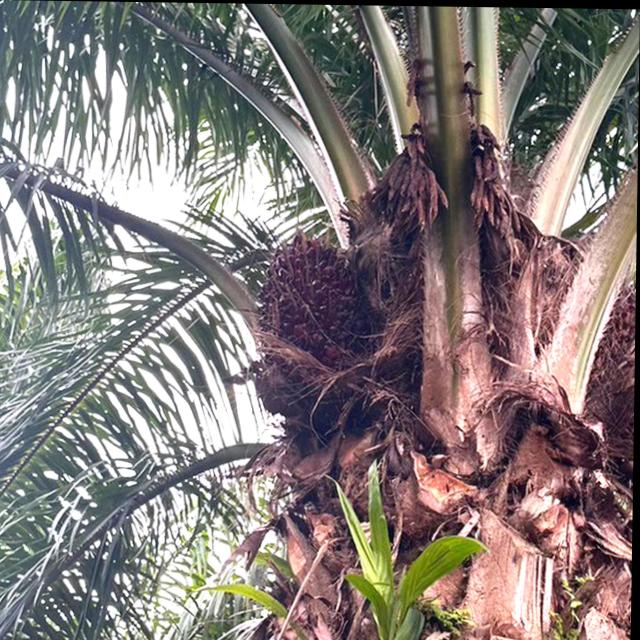ripe: (256, 233, 364, 402)
